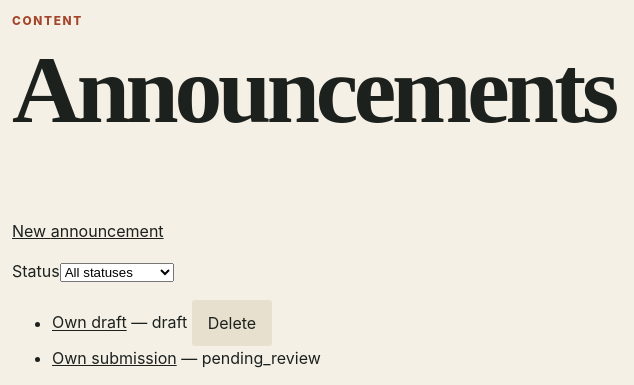
Scenario: publisher announcement list shows only their items and filters by status
Expected: the link "Own draft" is shown, x1=52 y1=313 x2=127 y2=333
Select "Pending review" in the dropdown labelled "Status". click: (117, 273)
box: x1=60 y1=263 x2=174 y2=282
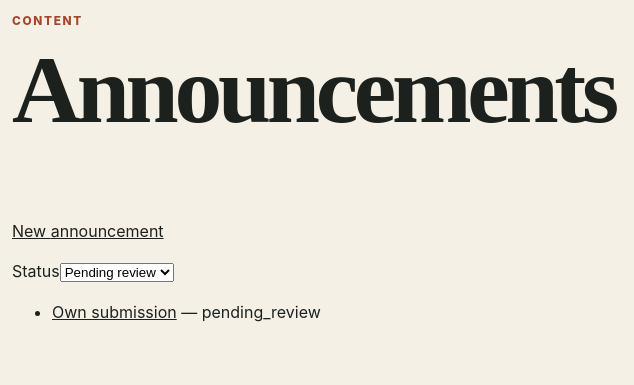
Expected: the link "Own submission" is shown, x1=52 y1=302 x2=177 y2=322
Now the link "Own draft" is gone
